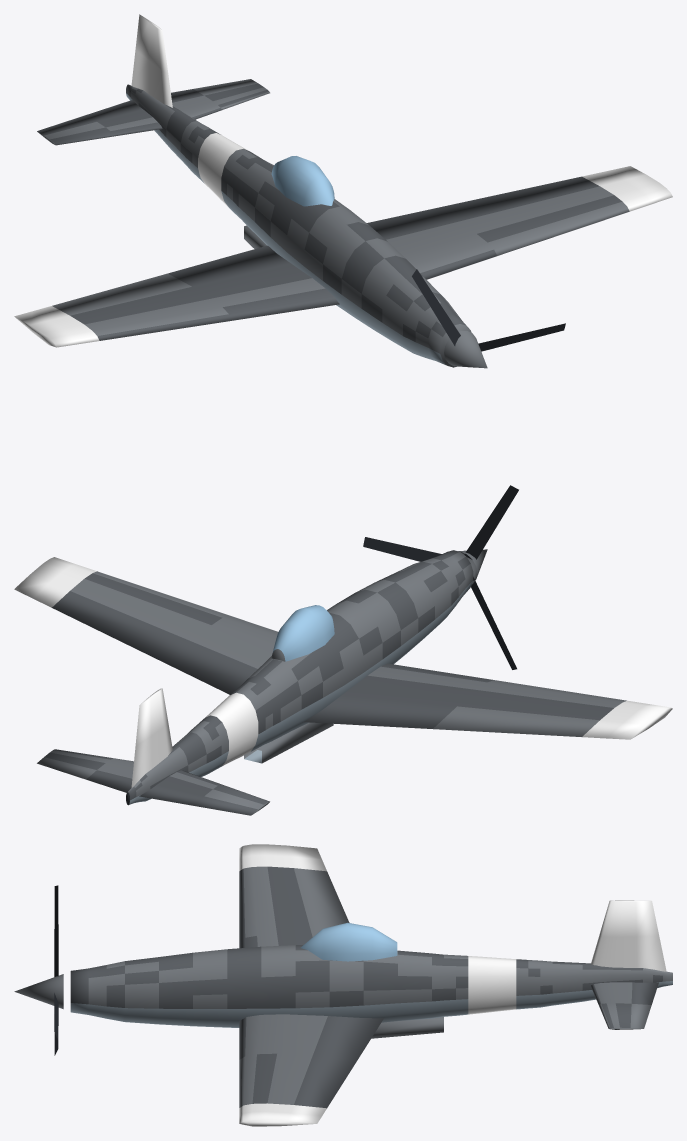
The model's file is yak3.glb.
The picture shows the model from 3 angles, top to bottom: view 1: azimuth 30°, elevation 25°; view 2: azimuth 150°, elevation 25°; view 3: azimuth 270°, elevation 25°; orthographic projection. The views are drawn at different scales.
Visible parts, largest first — view 1: body, prop; view 2: body, prop; view 3: body, prop.
Boxes of the visible parts, left/top/right/bottom form: body: left=14, top=14, right=672, bottom=367; prop: left=412, top=269, right=565, bottom=368; body: left=14, top=550, right=672, bottom=815; prop: left=363, top=485, right=518, bottom=669; body: left=70, top=844, right=672, bottom=1126; prop: left=14, top=885, right=63, bottom=1055.
Size of the model in its own units: 9.2 by 2.74 by 9.3.
